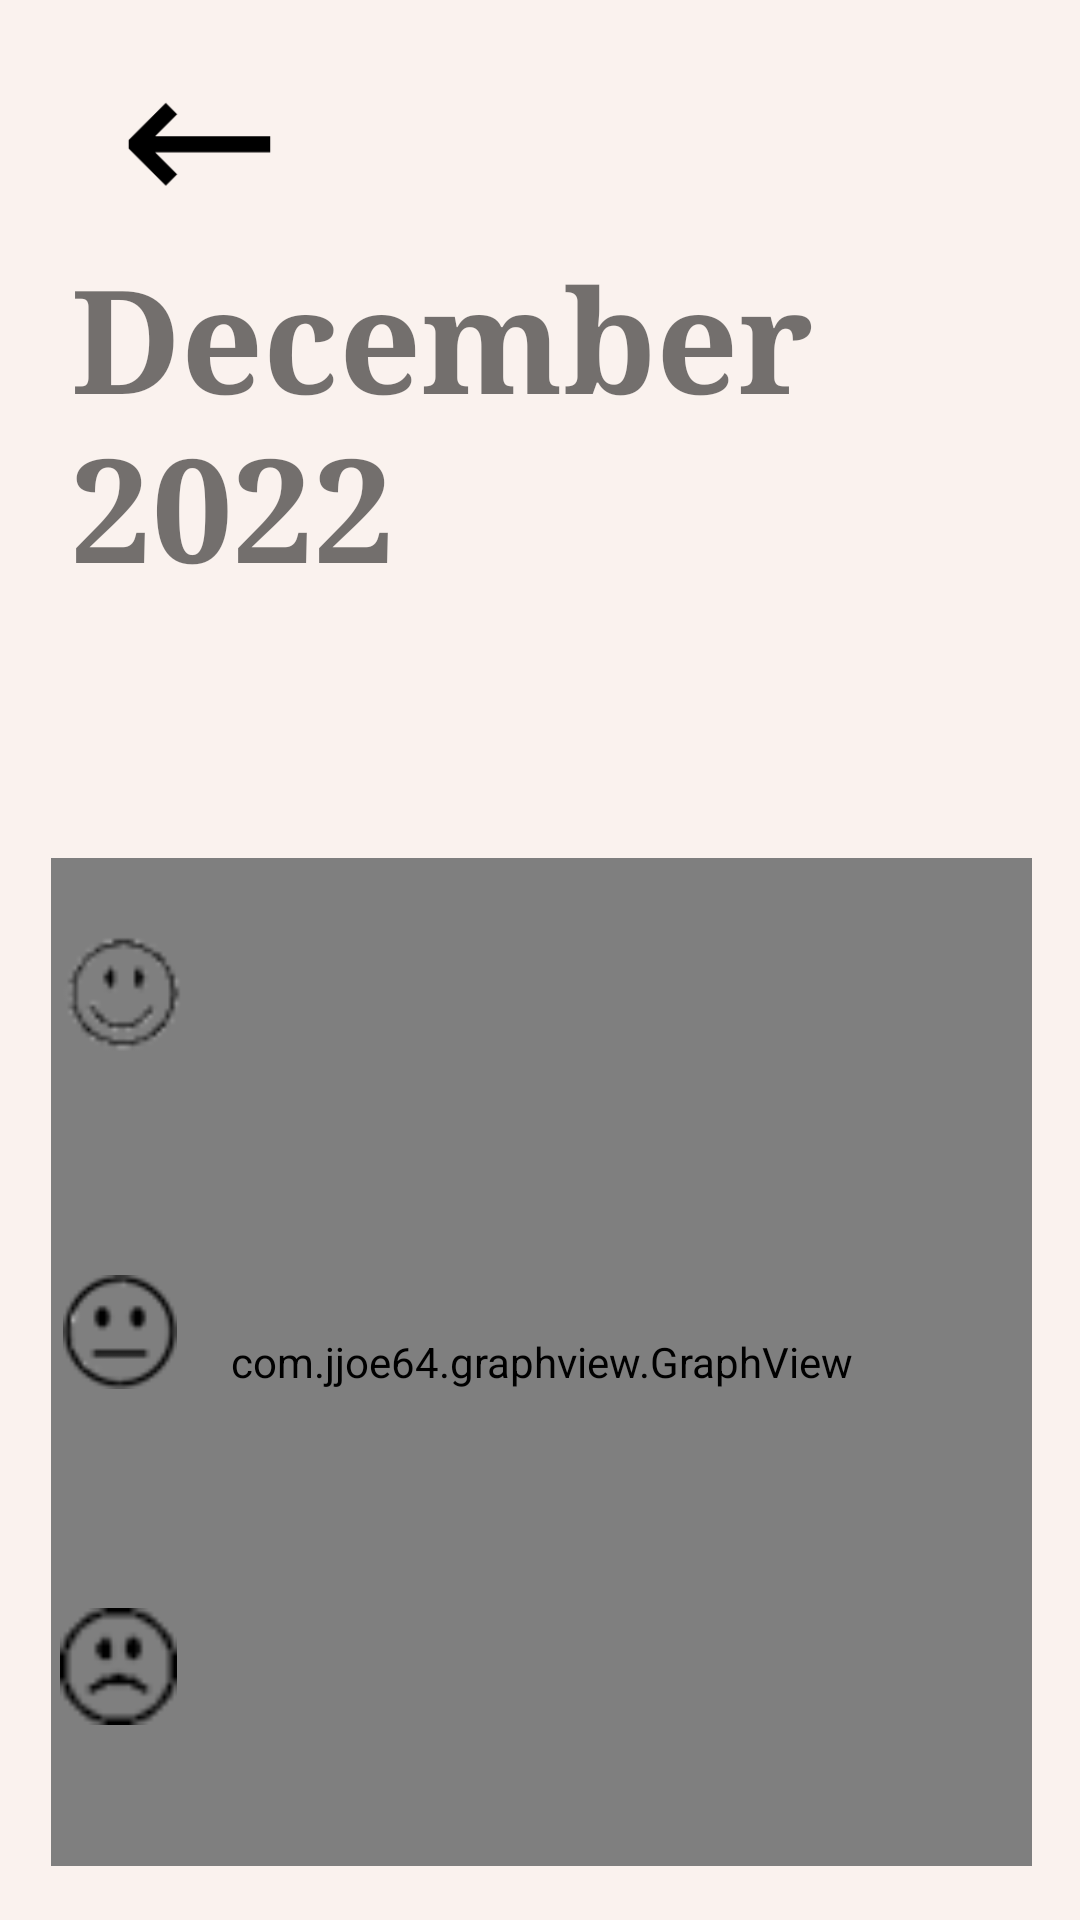

Icons on this 1080x1920 Android screen, each with its box as (x1, y1, x2, y2):
back: (128, 103, 271, 186)
mood: (70, 939, 179, 1046), (63, 1275, 177, 1389), (60, 1608, 177, 1725)
